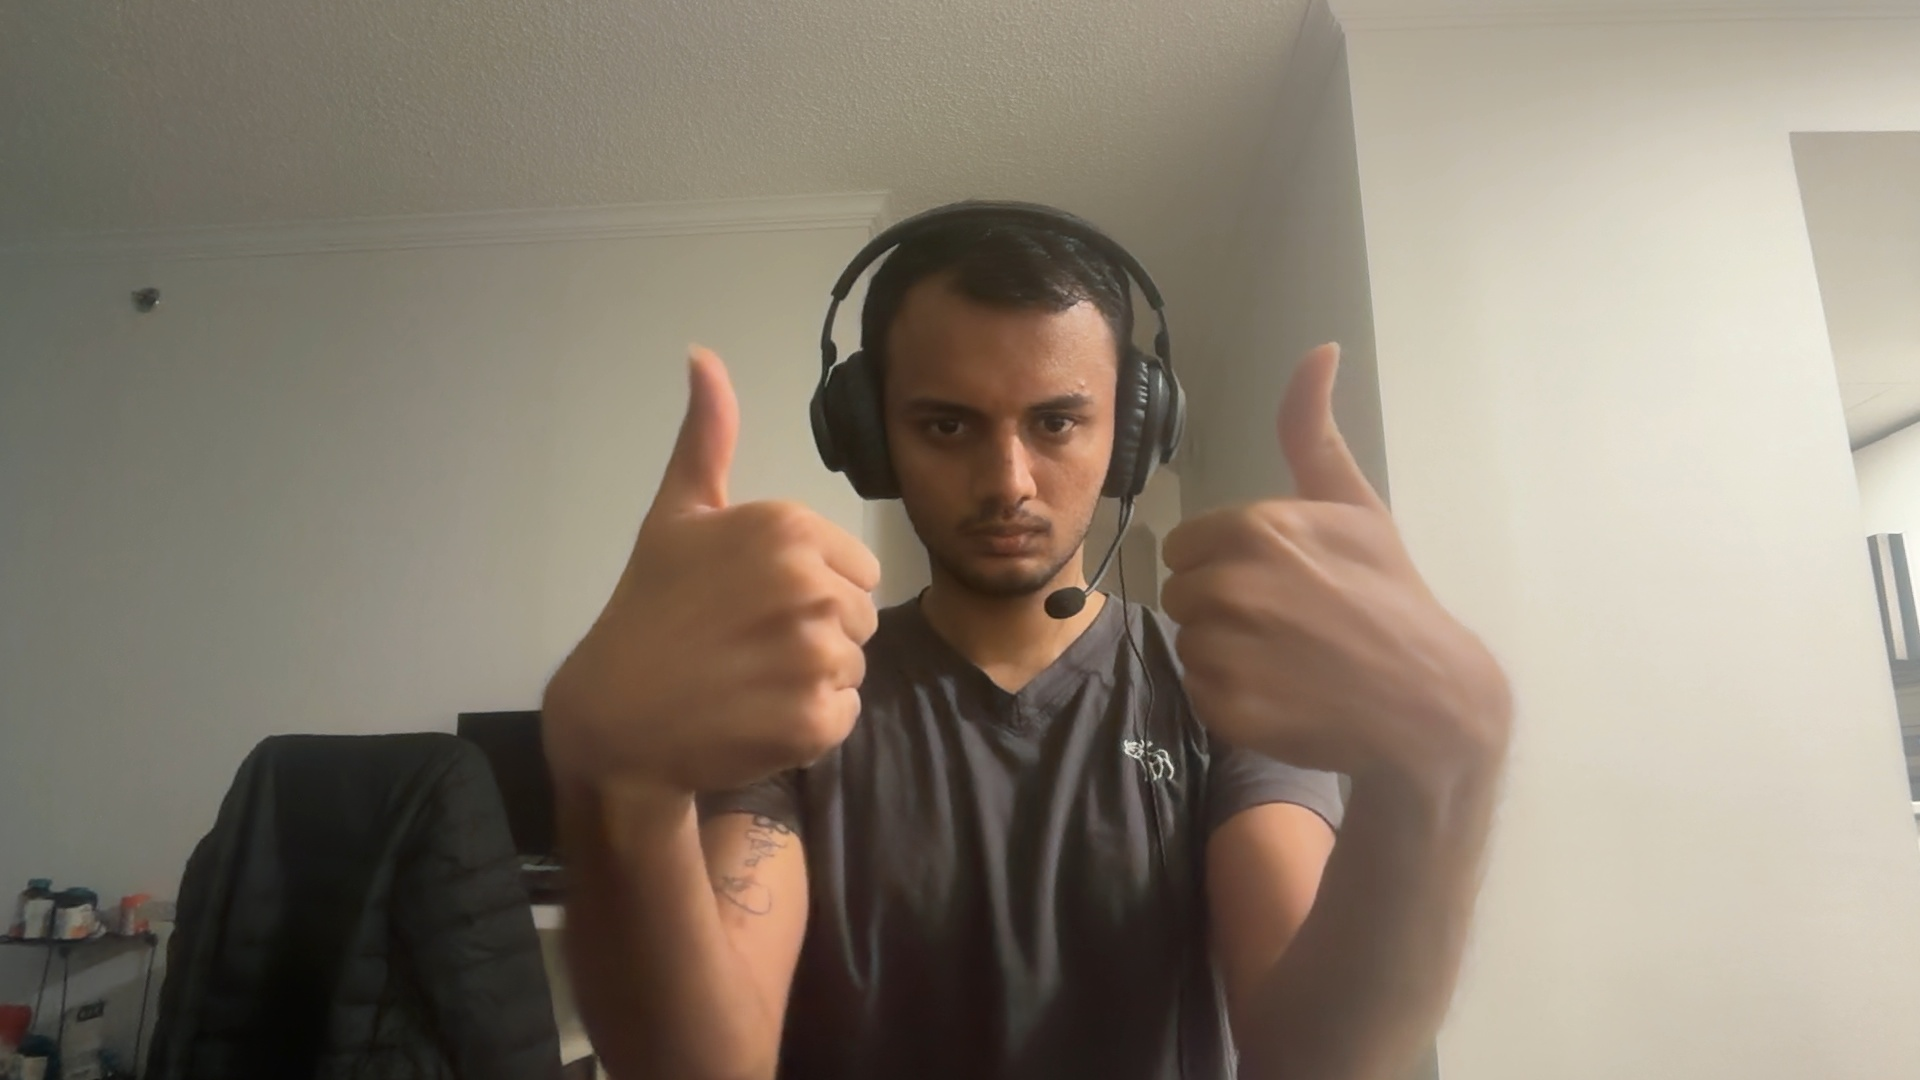thumbsup: (595, 342, 880, 789), (1162, 342, 1408, 771)
